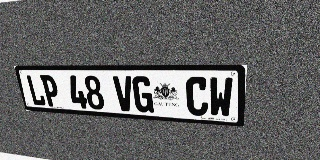4: (67, 75, 88, 109)
8: (83, 75, 105, 110)
C: (186, 77, 208, 116)
G: (132, 76, 154, 113)
L: (25, 75, 47, 106)
P: (40, 75, 61, 107)
V: (113, 76, 135, 112)
W: (209, 77, 233, 118)
